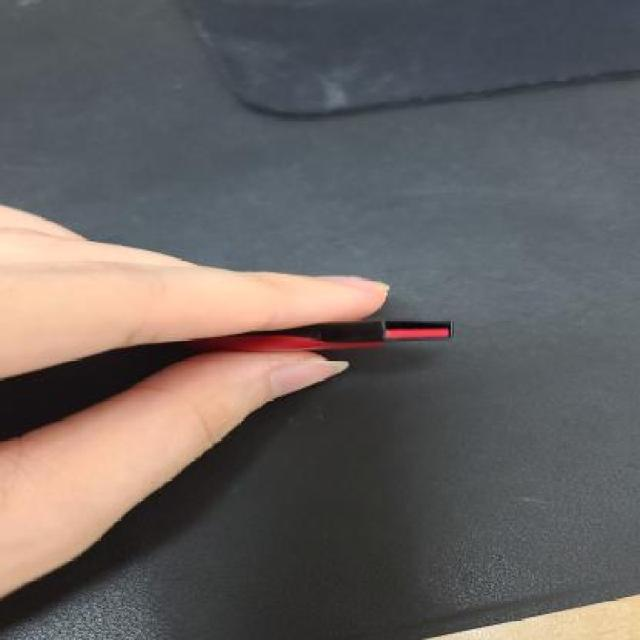Flashdisk: (181, 314, 457, 354)
